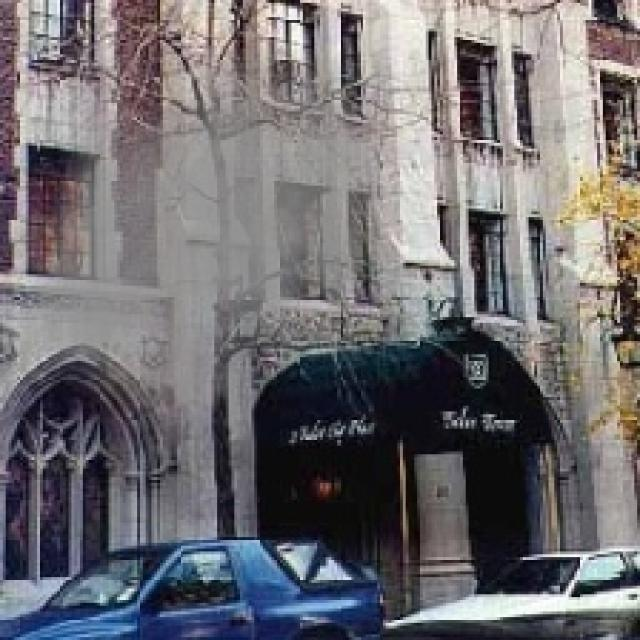Smoke: (22, 49, 392, 438)
